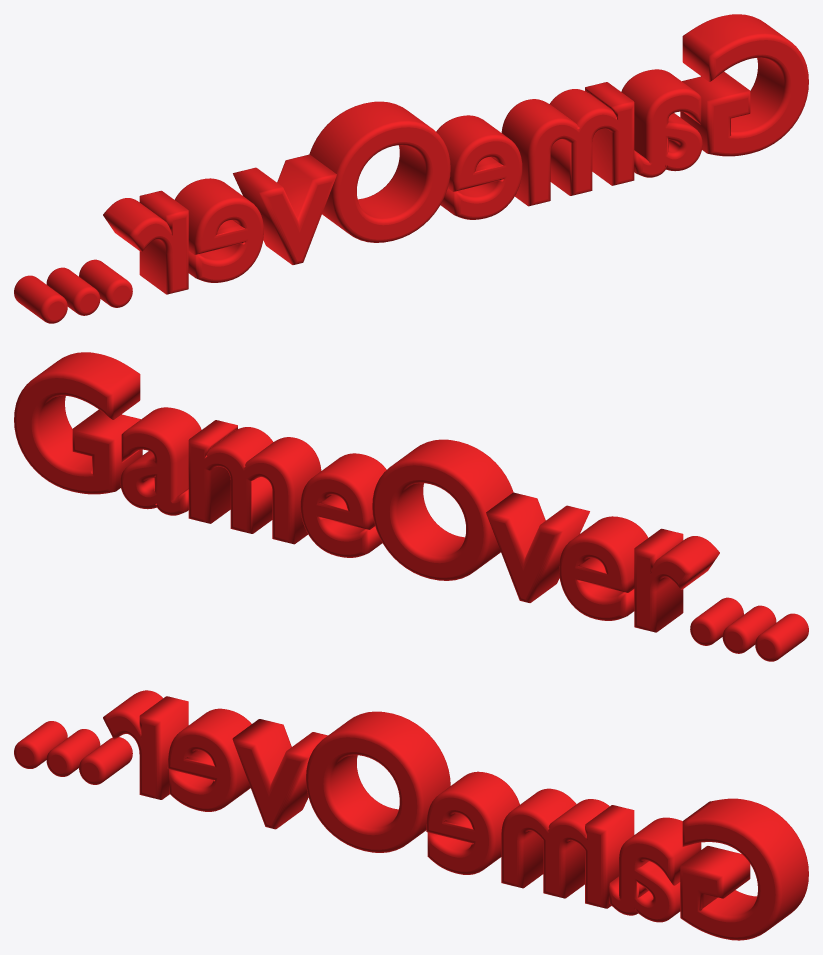
File: GameOver.obj
3 renders of one model, top to bottom at view 1: azimuth 30°, elevation 25°; view 2: azimuth 150°, elevation 25°; view 3: azimuth 330°, elevation 25°, orthographic.
Parts seen in each view (by area): view 1: テキスト; view 2: テキスト; view 3: テキスト.
Part boxes in pixels (x1,y1,x2,y2): テキスト: [14, 14, 808, 323]; テキスト: [14, 352, 808, 661]; テキスト: [14, 690, 808, 940].
Size of the model in its own units: 5.17 by 0.7601 by 0.36.
